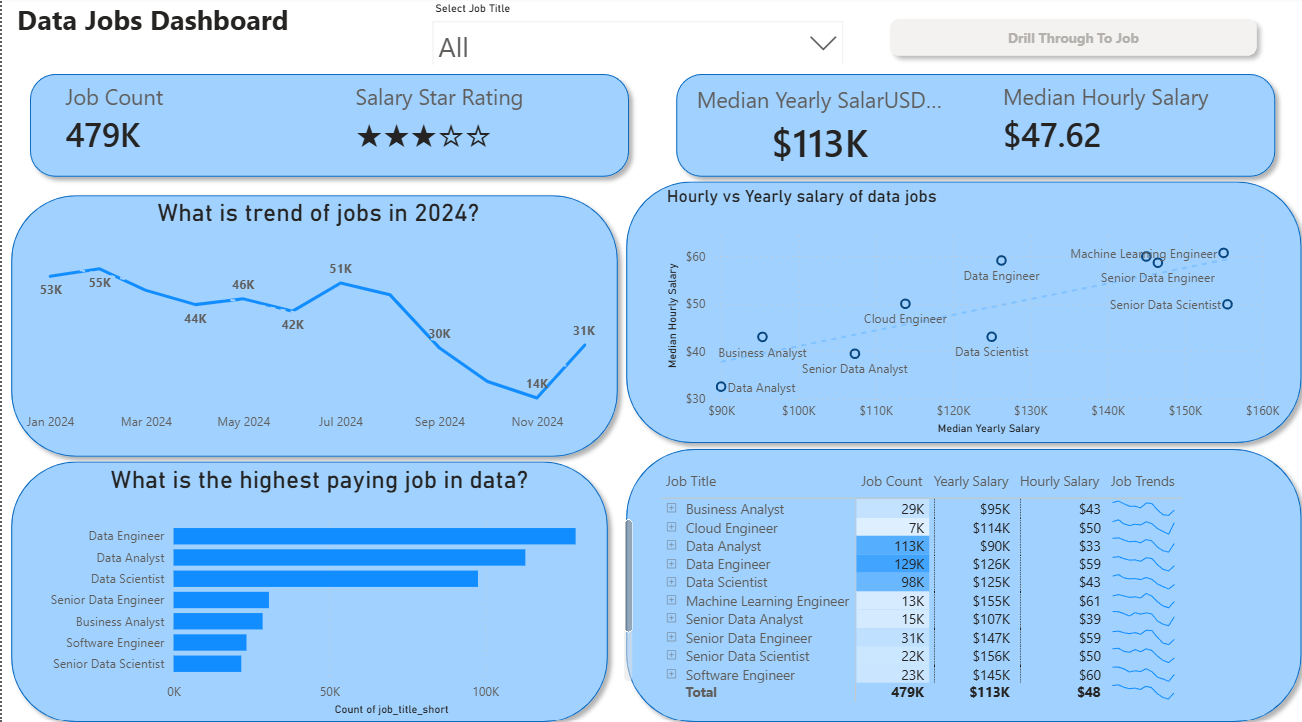

Layout of this report page (visuals, bound fields, positions):
{"tool":"powerbi","page":{"name":"Data Jobs Dashboard","canvas":[1280,720],"ordinal":0},"visuals":[{"type":"group","id":"g1","title":"Background","box":[0,67.3,1280.3,653],"z":0},{"type":"shape","box":[18.3,67.3,604.1,118.6],"z":0,"group":"g1"},{"type":"textbox","box":[9.8,0,326.5,67.3],"z":1000},{"type":"shape","box":[650.5,67.3,604.1,118.6],"z":1000,"group":"g1"},{"type":"slicer","fields":{"Values":["job_postings_flat.job_title_short"]},"box":[410.9,0,421.9,67.3],"z":2000},{"type":"shape","box":[0,185.9,611.4,273.9],"z":2000,"group":"g1"},{"type":"cardVisual","fields":{"Data":["CountNonNull(job_postings_flat.job_title_short)"]},"box":[33,67.3,287.4,105.2],"z":3000},{"type":"shape","box":[0,446.4,601.6,273.9],"z":3000,"group":"g1"},{"type":"cardVisual","fields":{"Data":["job_postings_flat.Salary Star Rating"]},"box":[316.7,67.3,293.5,105.2],"z":4000},{"type":"shape","box":[601.6,172.5,678.7,273.9],"z":4000,"group":"g1"},{"type":"cardVisual","fields":{"Data":["Median(job_postings_flat.salary_year_avg)"]},"box":[651.1,66.8,299.1,119.7],"z":5000},{"type":"shape","box":[601.6,434.1,678.7,286.1],"z":5000,"group":"g1"},{"type":"cardVisual","fields":{"Data":["Median(job_postings_flat.salary_hour_avg)"]},"box":[950.3,66.8,286.6,105.7],"z":6000},{"type":"lineChart","title":"What is trend of jobs in 2024?","fields":{"Y":["CountNonNull(job_postings_flat.job_title_short)"],"Category":["job_postings_flat.job_posted_date.Variation.Date Hierarchy.Year","job_postings_flat.job_posted_date.Variation.Date Hierarchy.Quarter","job_postings_flat.job_posted_date.Variation.Date Hierarchy.Month","job_postings_flat.job_posted_date.Variation.Date Hierarchy.Day"]},"box":[18.1,197.6,583,236.5],"z":7000},{"type":"barChart","title":"What is the highest paying job in data?","fields":{"Category":["job_postings_flat.job_title_short"],"Y":["CountNonNull(job_postings_flat.job_title_short)"]},"box":[0,459.1,621.9,250.4],"z":8000},{"type":"scatterChart","title":"Hourly vs Yearly salary of data jobs","fields":{"X":["Median(job_postings_flat.salary_year_avg)"],"Y":["Median(job_postings_flat.salary_hour_avg)"],"Series":["job_postings_flat.job_title_short"]},"box":[645.6,186.4,609.4,247.7],"z":9000},{"type":"pivotTable","fields":{"Values":["CountNonNull(job_postings_flat.job_title_short)","Median(job_postings_flat.salary_year_avg)","Median(job_postings_flat.salary_hour_avg)","SparklineData(CountNonNull(job_postings_flat.job_title_short)_[job_postings_flat.job_posted_date.Variation.Date Hierarch"],"Rows":["job_postings_flat.job_title_short","job_postings_flat.job_posted_date.Variation.Date Hierarchy.Year","job_postings_flat.job_posted_date.Variation.Date Hierarchy.Quarter","job_postings_flat.job_posted_date.Variation.Date Hierarchy.Month","job_postings_flat.job_posted_date.Variation.Date Hierarchy.Day"]},"box":[639.5,459.8,640.8,260.5],"z":10000},{"type":"actionButton","box":[859.7,13.5,376.6,53.8],"z":11000}]}

Visuals, with their boxes in screenshot pixels (x1, y1, x2, y2), scaled from the page's 1280x720 canvas onto the 1302x722 screenshot:
"Background" group: x1=0 y1=67 x2=1301 y2=721
shape: x1=19 y1=67 x2=633 y2=186
textbox: x1=10 y1=0 x2=342 y2=67
shape: x1=662 y1=67 x2=1276 y2=186
slicer - job_postings_flat.job_title_short: x1=418 y1=0 x2=847 y2=67
shape: x1=0 y1=186 x2=622 y2=461
cardVisual - CountNonNull(job_postings_flat.job_title_short): x1=34 y1=67 x2=326 y2=173
shape: x1=0 y1=448 x2=612 y2=721
cardVisual - job_postings_flat.Salary Star Rating: x1=322 y1=67 x2=621 y2=173
shape: x1=612 y1=173 x2=1301 y2=448
cardVisual - Median(job_postings_flat.salary_year_avg): x1=662 y1=67 x2=967 y2=187
shape: x1=612 y1=435 x2=1301 y2=721
cardVisual - Median(job_postings_flat.salary_hour_avg): x1=967 y1=67 x2=1258 y2=173
"What is trend of jobs in 2024?" lineChart: x1=18 y1=198 x2=611 y2=435
"What is the highest paying job in data?" barChart: x1=0 y1=460 x2=633 y2=711
"Hourly vs Yearly salary of data jobs" scatterChart: x1=657 y1=187 x2=1277 y2=435
pivotTable - CountNonNull(job_postings_flat.job_title_short) x Median(job_postings_flat.salary_year_avg): x1=650 y1=461 x2=1301 y2=721
actionButton: x1=874 y1=14 x2=1258 y2=67
